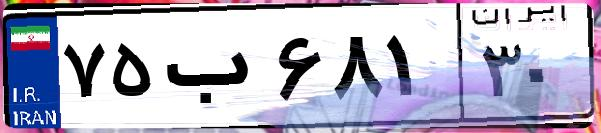0: (525, 38, 570, 115)
1: (385, 28, 445, 110)
3: (475, 38, 525, 113)
5: (110, 28, 158, 98)
6: (270, 28, 330, 110)
7: (57, 26, 110, 100)
8: (330, 28, 385, 110)
ب: (158, 20, 270, 120)
